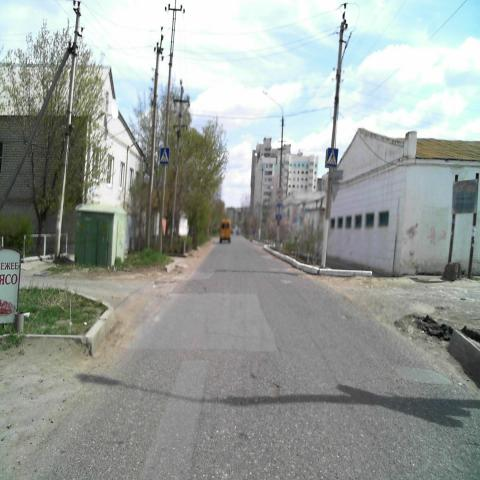7_4: (275, 202, 282, 221)
